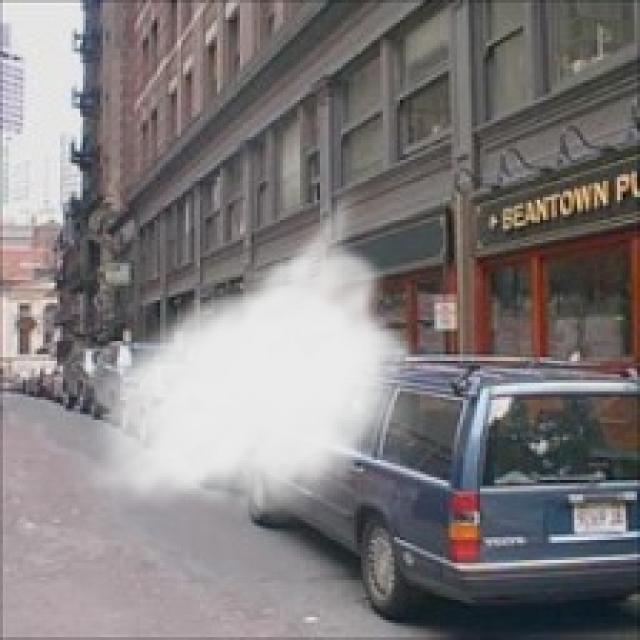Smoke: (71, 183, 426, 526)
